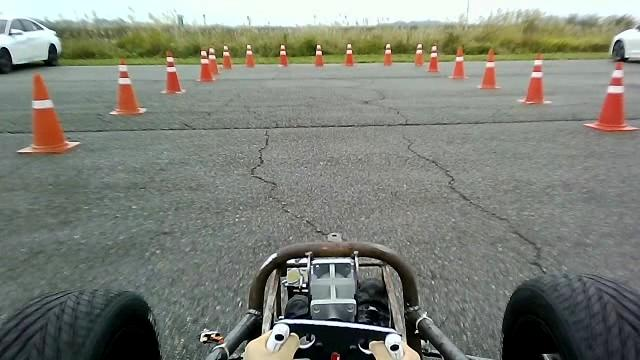red cone: (16, 72, 80, 154), (583, 60, 638, 130), (108, 57, 146, 115), (517, 52, 552, 104), (159, 49, 185, 94), (477, 47, 500, 89), (449, 45, 468, 79), (426, 44, 440, 72), (343, 43, 355, 66), (221, 45, 232, 69), (313, 43, 324, 66), (413, 43, 424, 66), (244, 44, 255, 66), (278, 43, 288, 66), (383, 42, 392, 64)
